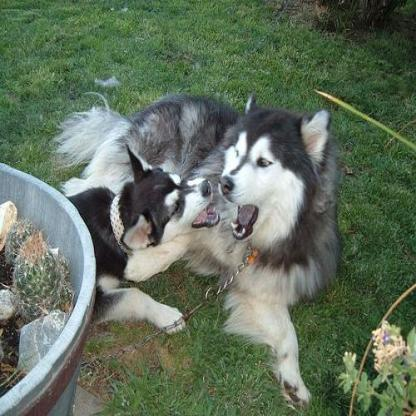malamute: (52, 92, 342, 414)
